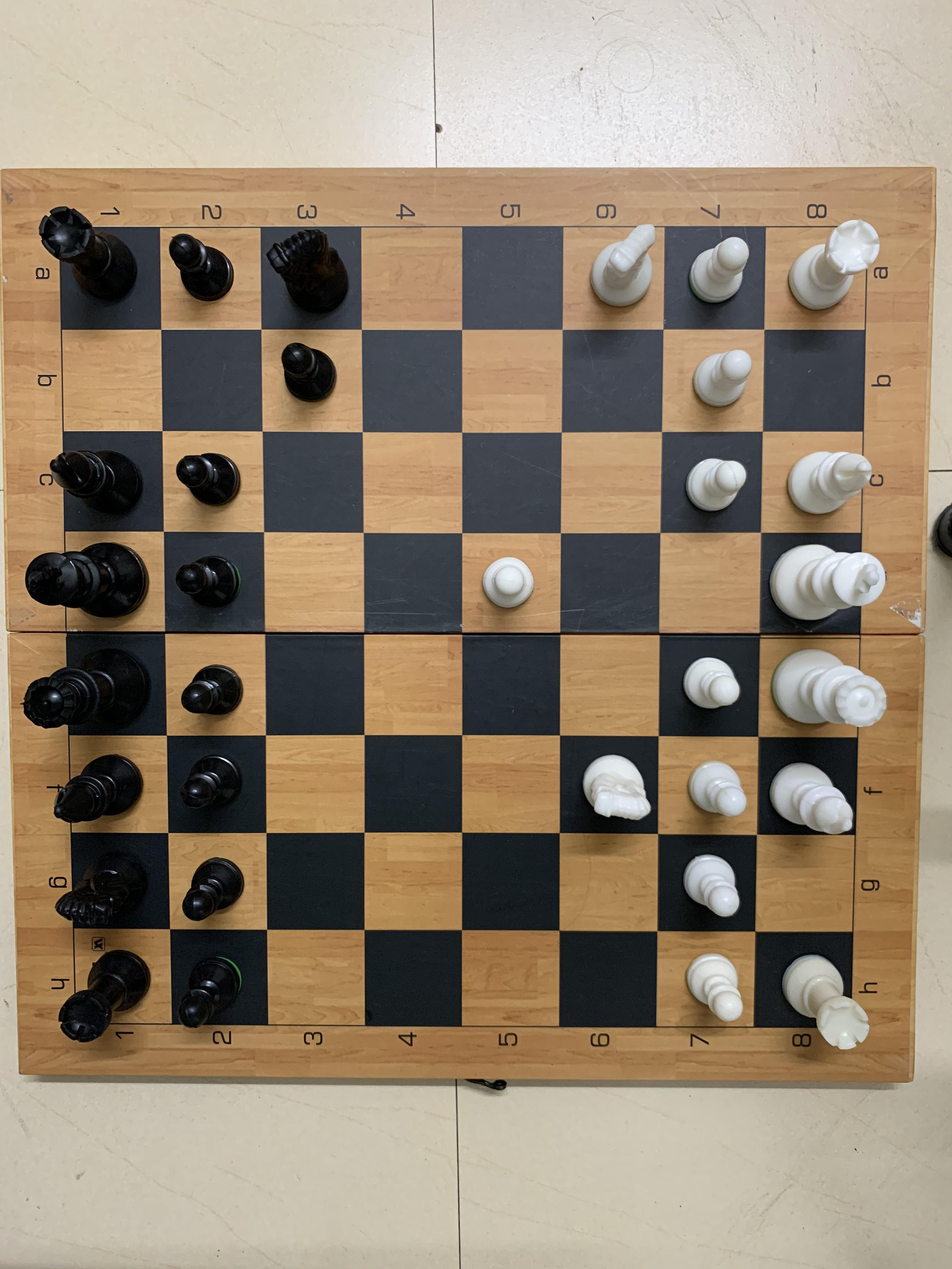black_bishop: (44, 440, 145, 526), (40, 750, 150, 825)
black_king: (19, 542, 155, 621)
black_knight: (50, 844, 159, 936), (267, 223, 355, 319)
black_pawn: (167, 229, 243, 318), (178, 949, 248, 1036), (168, 546, 245, 622), (176, 842, 245, 926), (168, 749, 248, 819), (176, 655, 251, 725), (175, 440, 247, 511), (273, 339, 344, 408)
black_queen: (12, 636, 157, 733)
black_rook: (34, 200, 144, 316), (49, 944, 157, 1051)
white_bishop: (763, 749, 864, 841), (780, 440, 882, 529)
white_king: (764, 537, 891, 634)
white_knight: (588, 213, 670, 323), (569, 745, 659, 838)
white_pawn: (686, 229, 753, 315), (673, 449, 753, 521), (679, 841, 748, 924), (676, 951, 751, 1026), (674, 646, 741, 725), (677, 752, 749, 824), (687, 343, 758, 413), (471, 551, 541, 611)
white_queen: (764, 640, 895, 738)
white_rook: (772, 939, 879, 1052), (782, 211, 887, 316)
